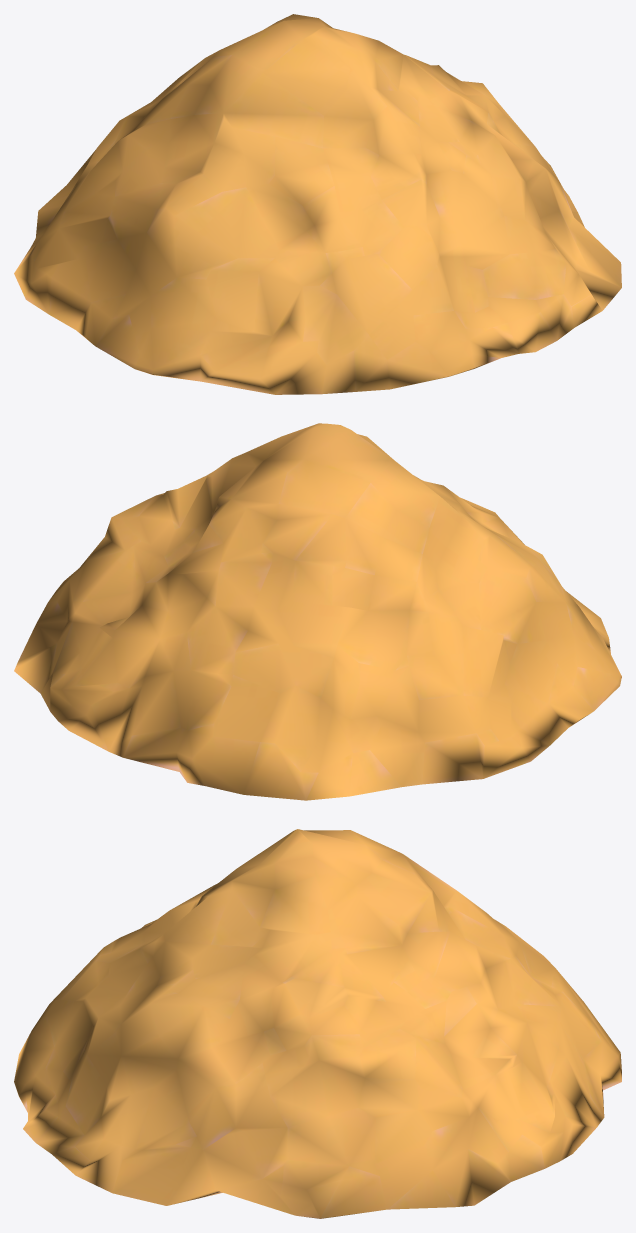
The model's file is sand_dune.glb.
3 renders of one model, top to bottom at view 1: azimuth 30°, elevation 25°; view 2: azimuth 150°, elevation 25°; view 3: azimuth 270°, elevation 25°, orthographic. The views are drawn at different scales.
Parts seen in each view (by area): view 1: 0; view 2: 0; view 3: 0.
Boxes of the visible parts, x1,y1,x2,y2 form: 0: [14, 14, 621, 394]; 0: [14, 423, 621, 800]; 0: [14, 829, 621, 1218].
Bounding box in the file's own units: 1.89 × 0.865 × 1.89.
1 material, 1 textured.
